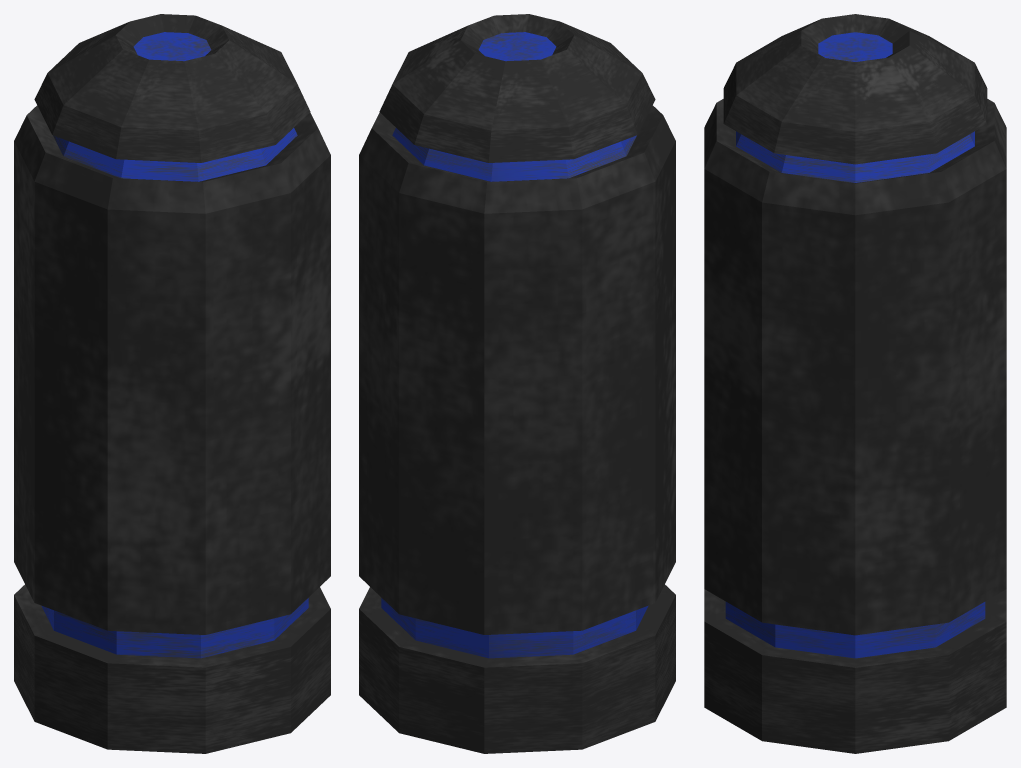
File: CapsulePillar_Asset.fbx
3 views of the same model, side by side, from view 1: azimuth 30°, elevation 25°; view 2: azimuth 150°, elevation 25°; view 3: azimuth 270°, elevation 25° (orthographic).
Parts seen in each view (by area): view 1: pCylinder1; view 2: pCylinder1; view 3: pCylinder1.
Boxes of the visible parts, x1,y1,x2,y2 form: pCylinder1: [14, 14, 330, 753]; pCylinder1: [359, 14, 675, 753]; pCylinder1: [704, 14, 1006, 753].
Bounding box in the file's own units: 7.94 × 17.89 × 7.55.
